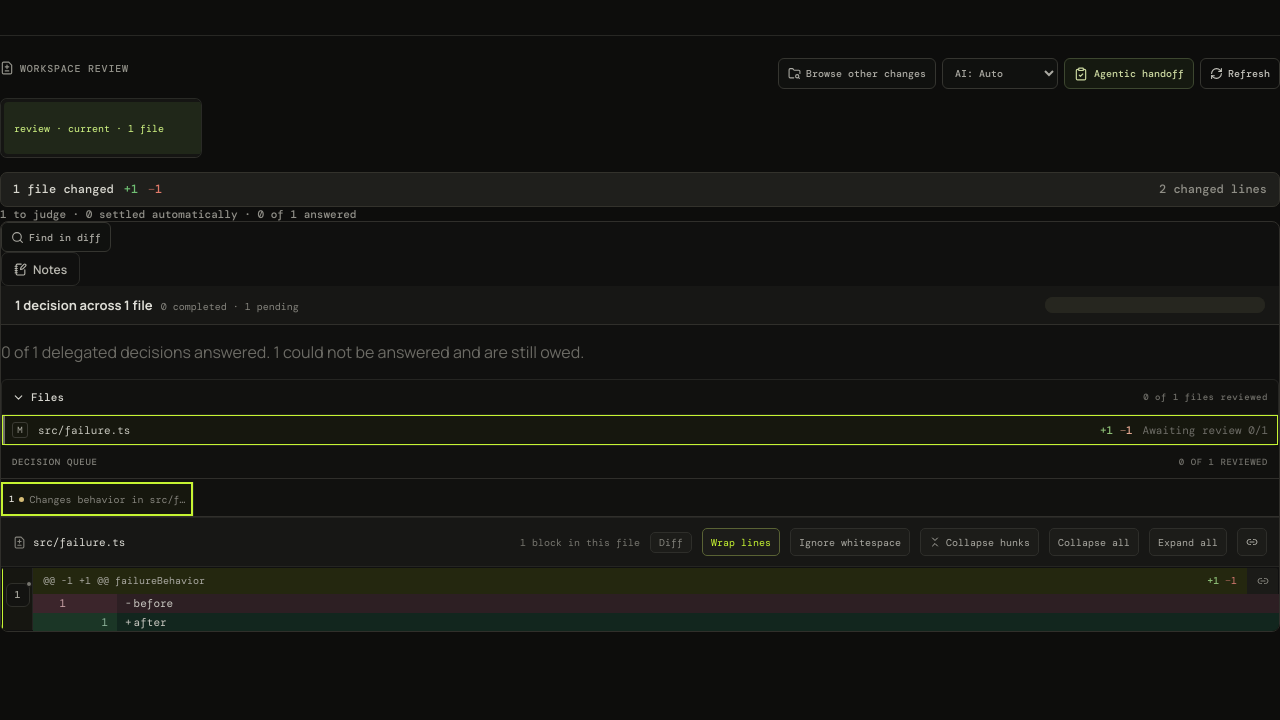
Scenario: WorkspaceDiffView decision queue › keeps the active decision in place and shows an actionable error when persistence fails
Click the 1st button "1": click(18, 595) [6, 583, 30, 607]
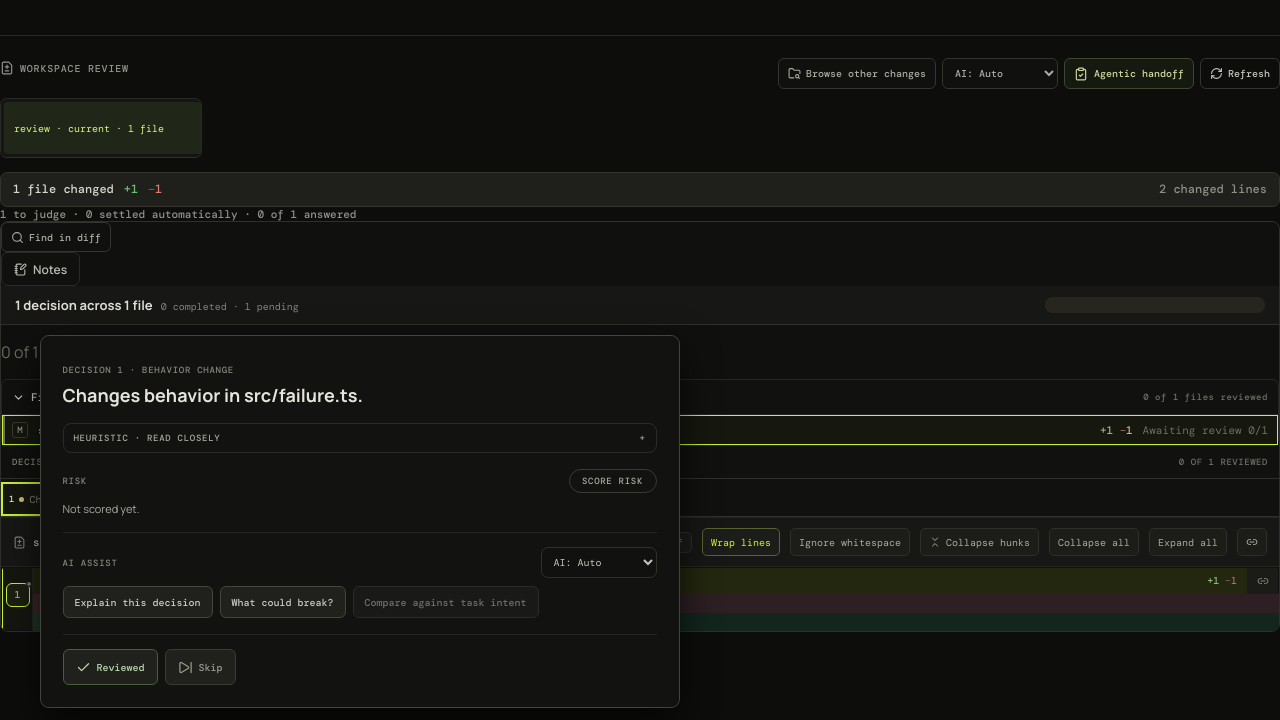
Click the button "Reviewed": click(110, 667) [62, 649, 158, 685]
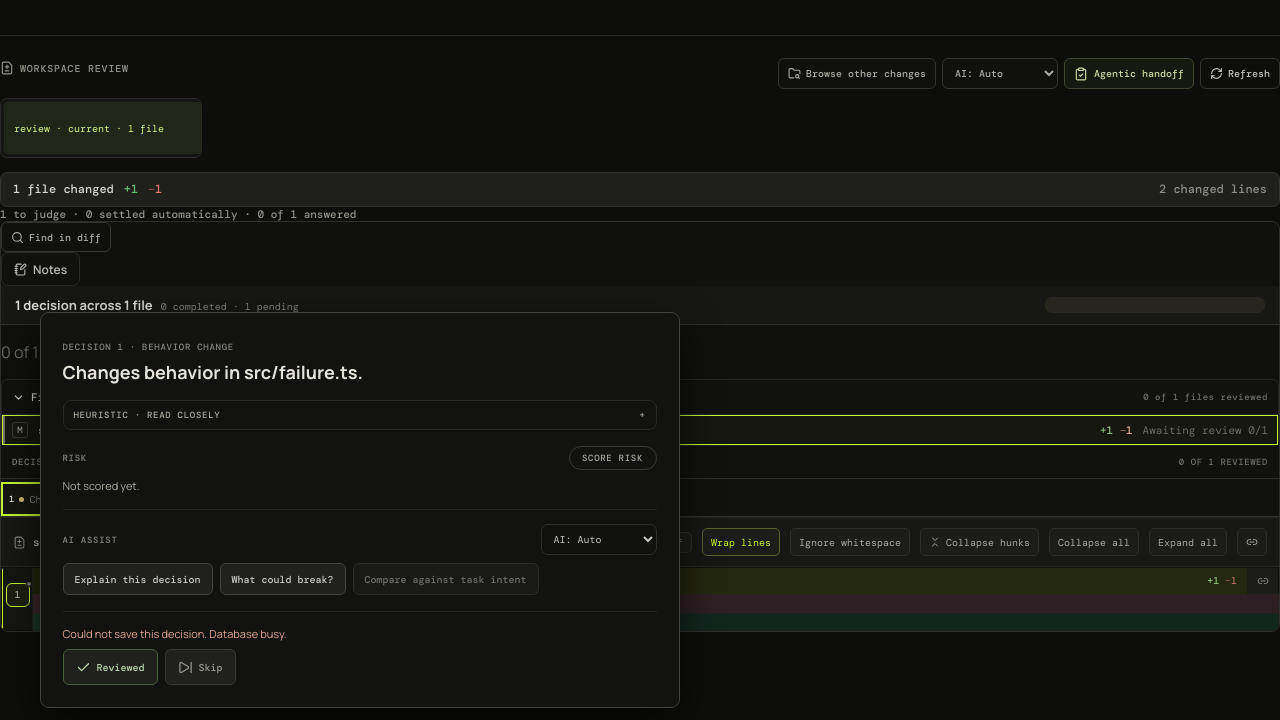
Expected: the heading "Changes behavior in src/failure.ts." is shown, [62, 360, 363, 384]
Expected: the message "Could not save this decision. Database busy." is shown, [62, 626, 287, 641]
